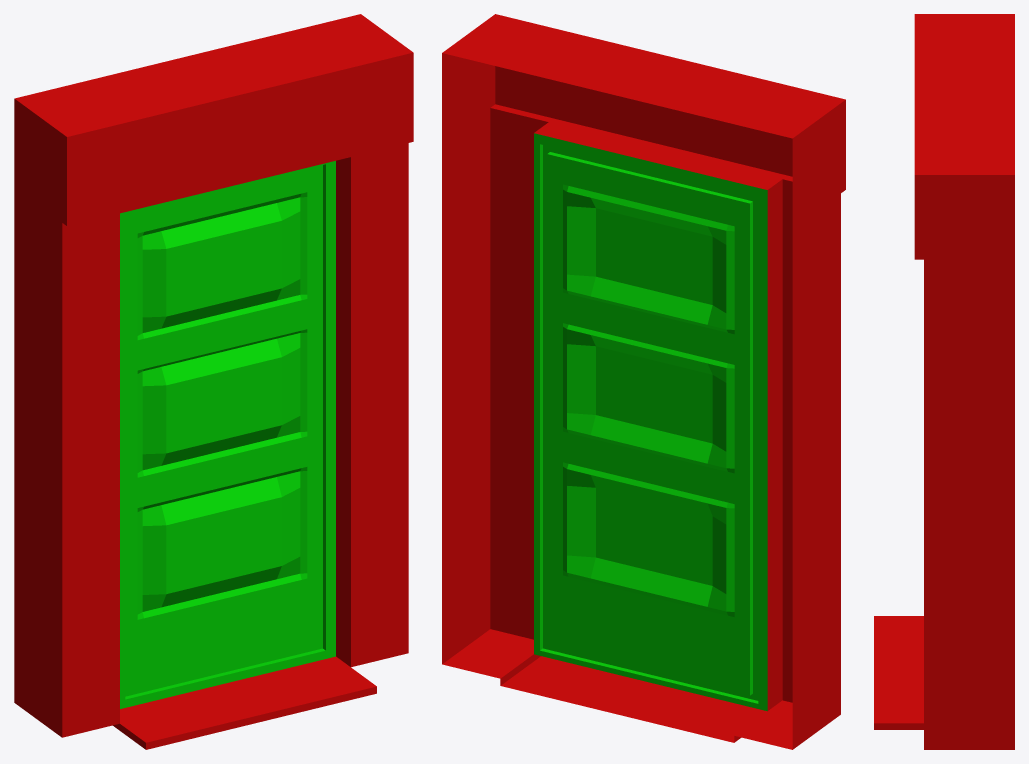
Rendered from SingleDoor01_Nice.fbx.
3 views of the same model, side by side, from view 1: azimuth 30°, elevation 25°; view 2: azimuth 150°, elevation 25°; view 3: azimuth 270°, elevation 25° (orthographic). The views are drawn at different scales.
Parts seen in each view (by area): view 1: SingleDoor1; view 2: SingleDoor1; view 3: SingleDoor1.
Part boxes in pixels (x1,y1,x2,y2): SingleDoor1: [14, 14, 413, 749]; SingleDoor1: [442, 14, 845, 749]; SingleDoor1: [874, 14, 1014, 749].
Bounding box in the file's own units: 120 × 202 × 44.34.
